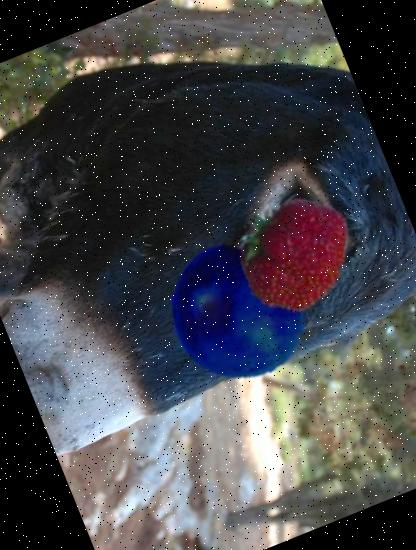Huckleberry: (150, 224, 326, 401)
Strawberry: (214, 172, 373, 331)
